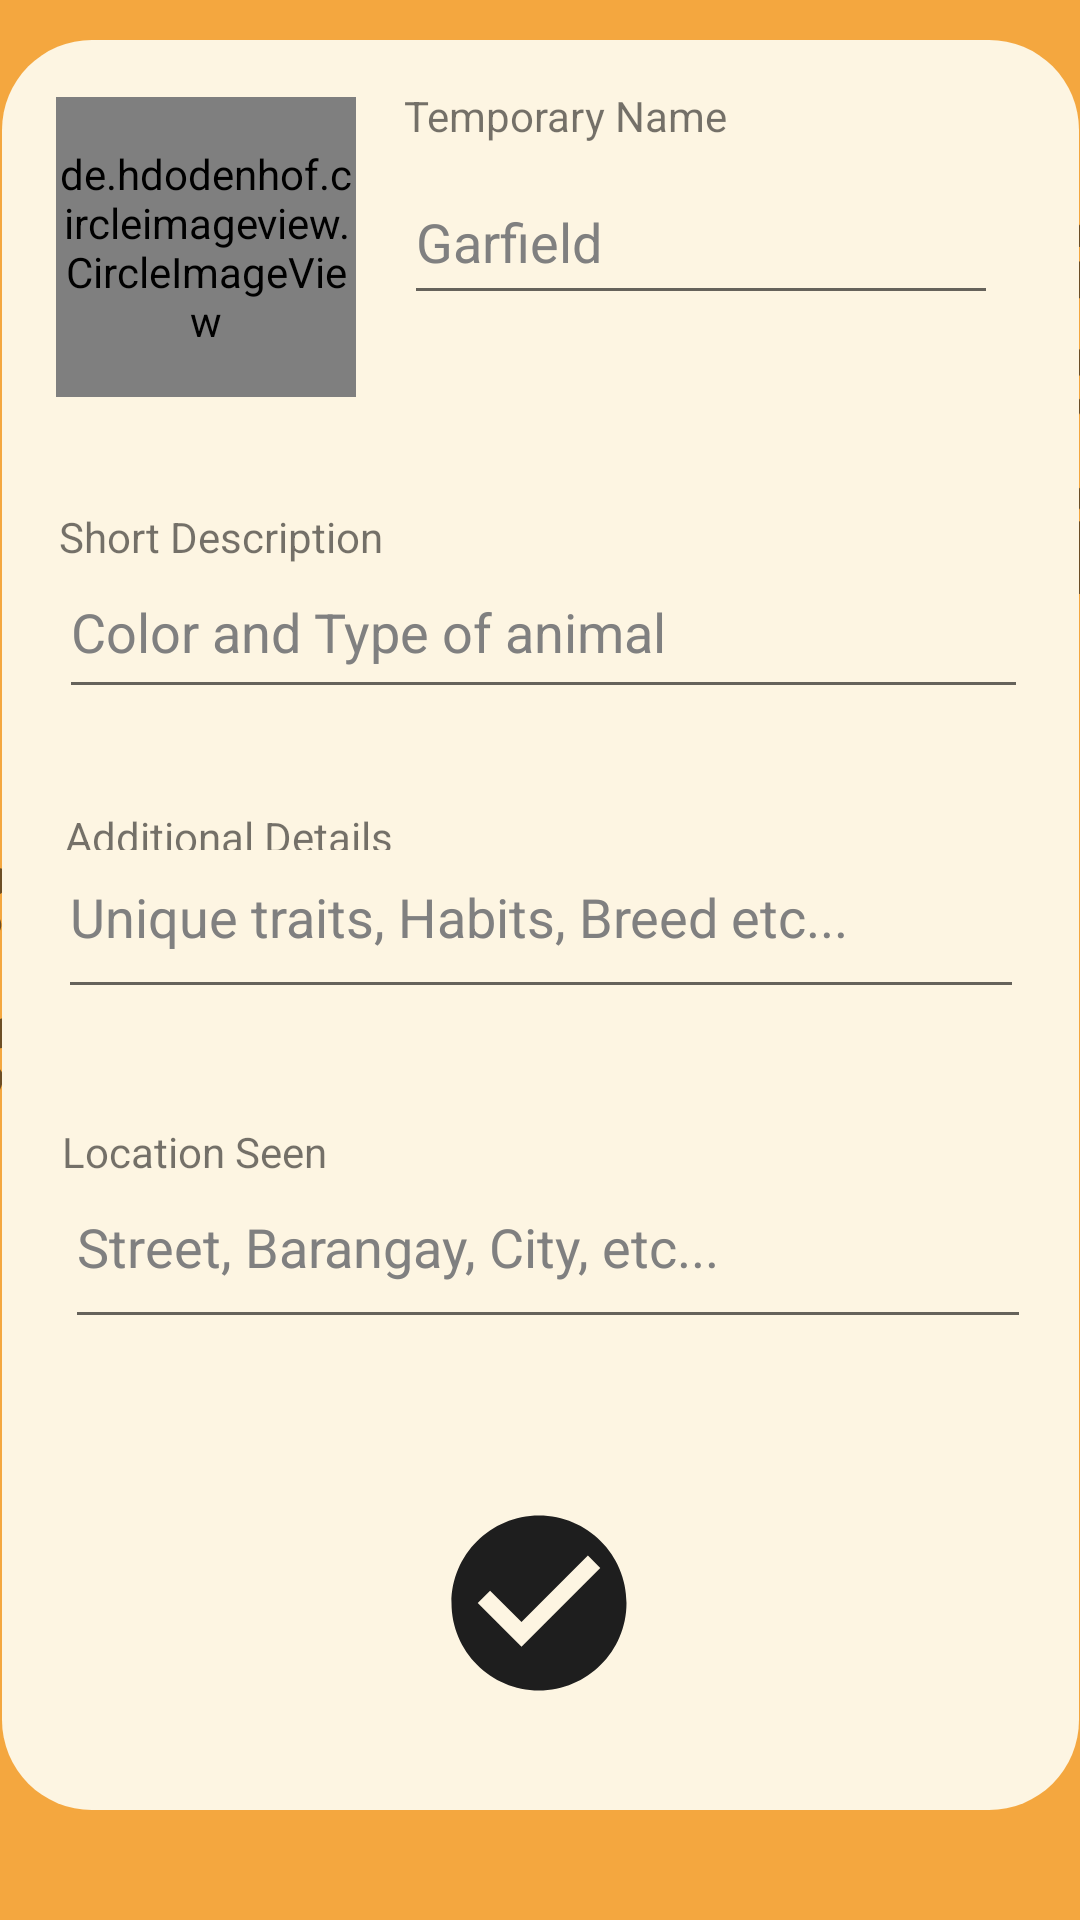

Named icons in this screenshot (1080px×1920px) and their centers, [x,y]:
Confirm: [539,1603]
